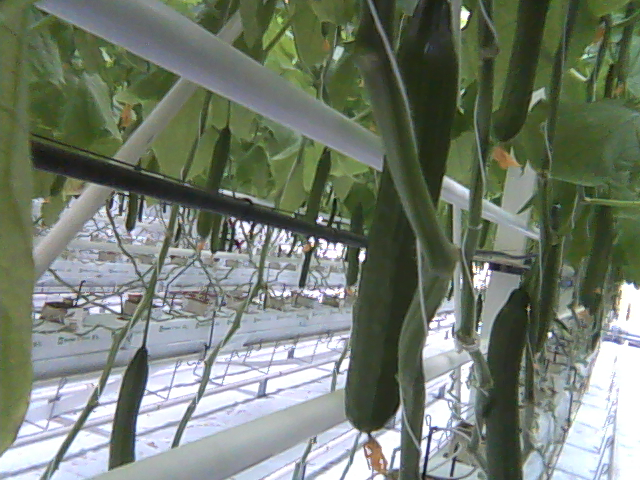concombre: (342, 1, 462, 470), (483, 280, 537, 480)
